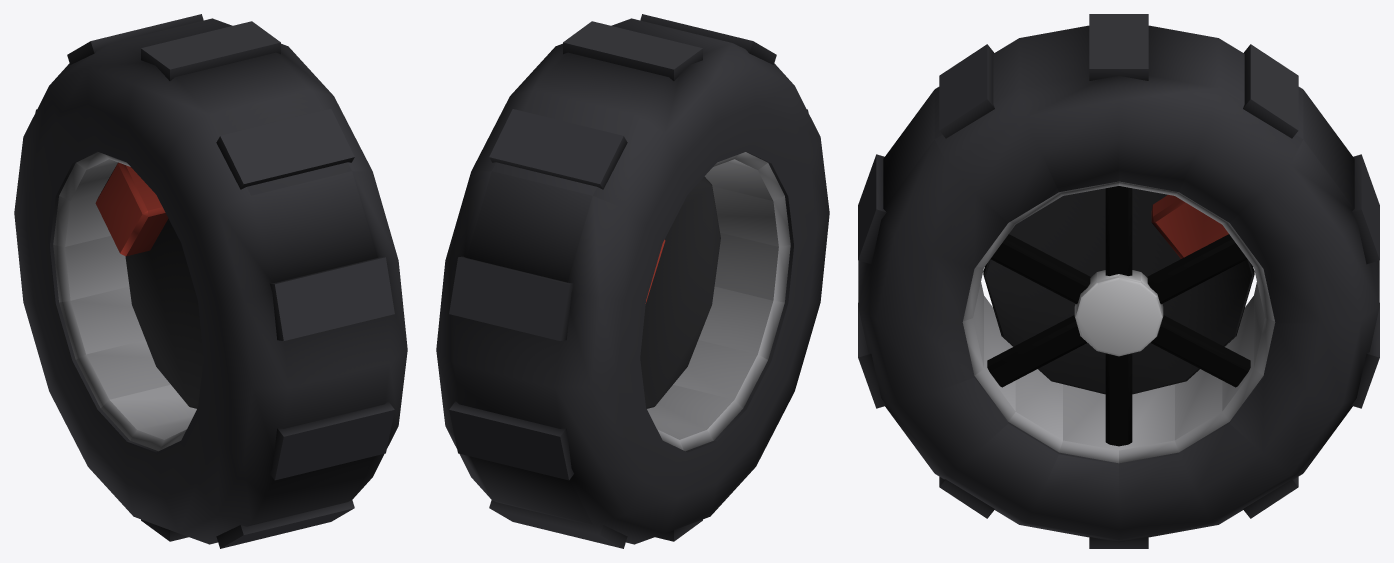
File: wheel_sport.glb
The picture shows the model from 3 angles, left to right: view 1: azimuth 30°, elevation 25°; view 2: azimuth 150°, elevation 25°; view 3: azimuth 270°, elevation 25°; orthographic projection.
Visible parts, largest first — view 1: tyre, rim_barrel, brake_disc, tread_07, tread_06, tread_08, tread_05, caliper, tread_09, tread_04; view 2: tyre, rim_barrel, brake_disc, tread_03, tread_04, tread_02, tread_05, tread_01, tread_06; view 3: tyre, rim_barrel, brake_disc, hub, tread_05, tread_04, tread_06, spoke_1, spoke_5, spoke_2, spoke_4, caliper (+8 smaller).
Boxes of the visible parts, x1,y1,x2,y2 form: tyre: (14, 18, 407, 544); rim_barrel: (53, 152, 196, 451); brake_disc: (125, 218, 203, 408); tread_07: (270, 256, 394, 340); tread_06: (216, 109, 354, 189); tread_08: (270, 401, 394, 480); tread_05: (141, 21, 280, 80); caliper: (95, 162, 168, 256); tread_09: (216, 500, 354, 548); tread_04: (67, 14, 203, 64); tyre: (436, 18, 829, 544); rim_barrel: (647, 152, 790, 451); brake_disc: (640, 176, 720, 408); tread_03: (449, 256, 573, 340); tread_04: (489, 109, 627, 189); tread_02: (449, 401, 573, 480); tread_05: (563, 21, 702, 80); tread_01: (489, 500, 627, 548); tread_06: (640, 14, 776, 64); tyre: (858, 25, 1379, 542); rim_barrel: (962, 181, 1275, 463); brake_disc: (983, 188, 1254, 394); hub: (1074, 270, 1163, 356); tread_05: (1089, 14, 1148, 80); tread_04: (1243, 44, 1298, 138); tread_06: (939, 44, 994, 138); spoke_1: (1150, 315, 1250, 387); spoke_5: (987, 315, 1087, 387); spoke_2: (1147, 234, 1247, 304); spoke_4: (990, 234, 1090, 304); caliper: (1151, 194, 1228, 258).
Size of the model in its own units: 0.25 by 0.6701 by 0.6605.
